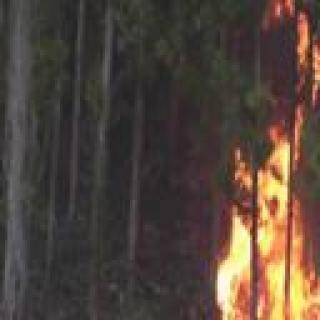fire: (157, 9, 320, 320)
